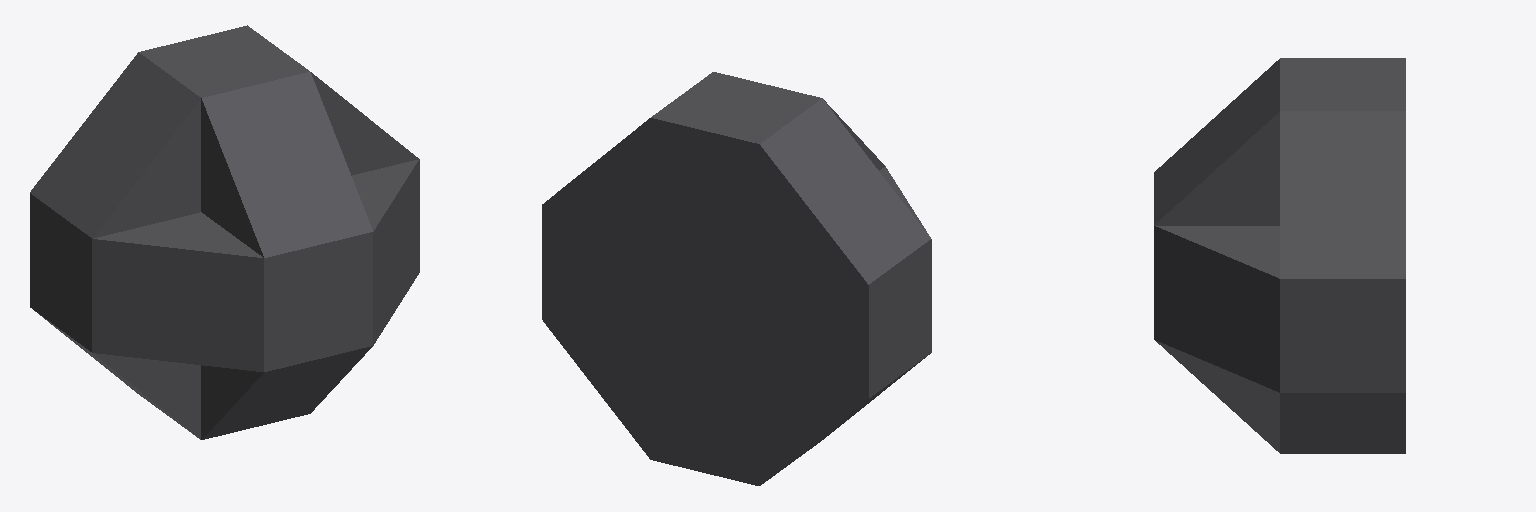
Rendered from HalfConnectorBall.obj.
3 views of the same model, side by side, from view 1: azimuth 30°, elevation 25°; view 2: azimuth 150°, elevation 25°; view 3: azimuth 270°, elevation 25° (orthographic).
Parts seen in each view (by area): view 1: Handle1; view 2: Handle1; view 3: Handle1.
Boxes of the visible parts, box(x1,y1,x2,y2) form: Handle1: box(30, 25, 419, 439); Handle1: box(542, 72, 931, 485); Handle1: box(1154, 58, 1405, 453).
Bounding box in the file's own units: 1 × 1 × 0.6667.